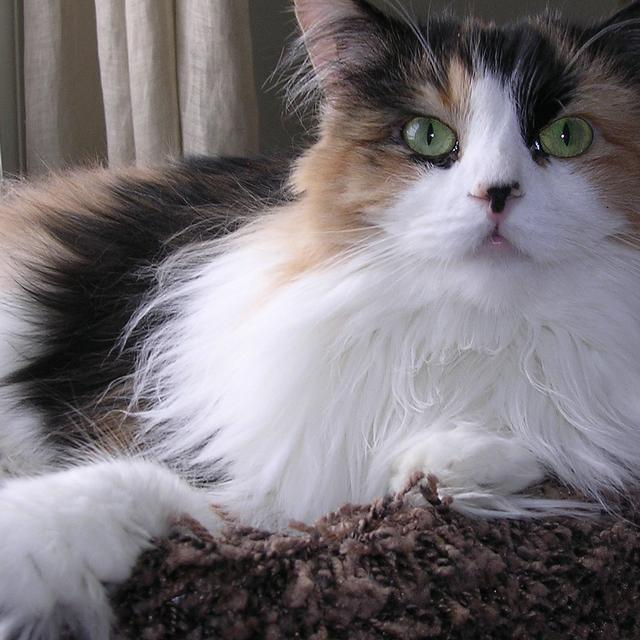animals: (300, 0, 640, 209)
